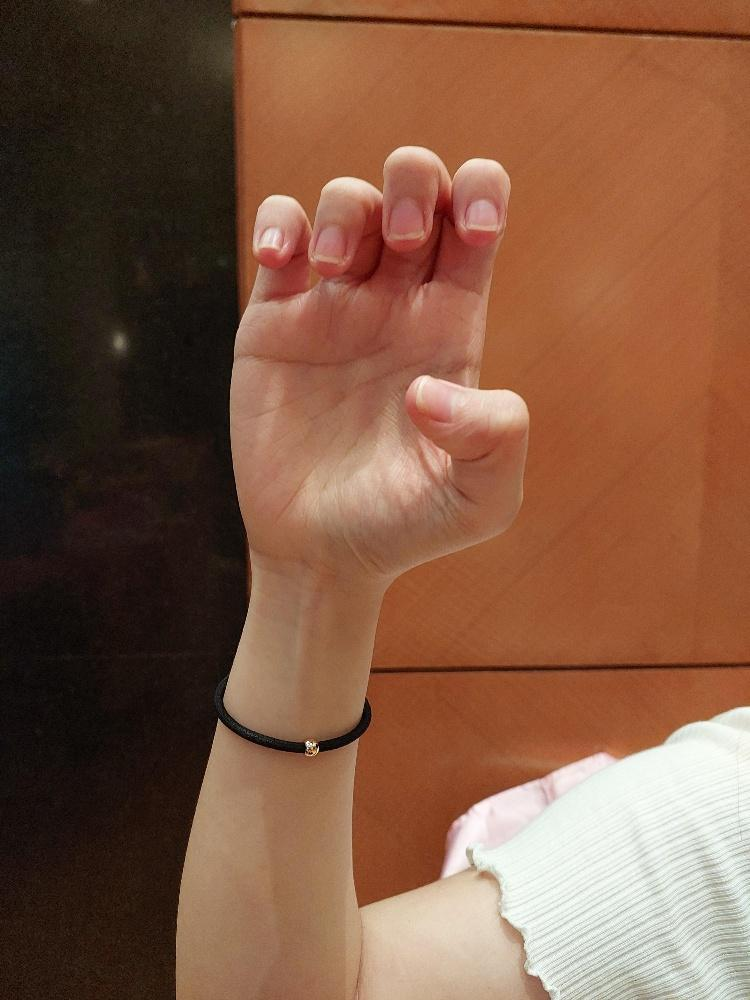e: (226, 142, 531, 571)
